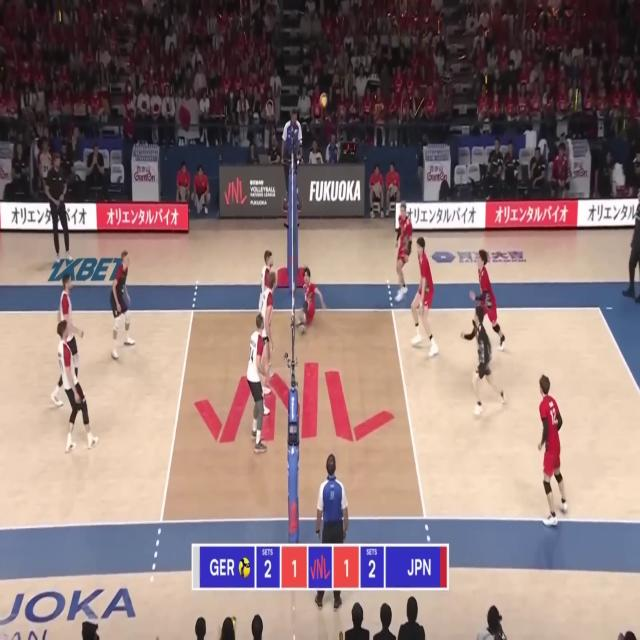referee: (315, 454, 349, 610)
team_one: (56, 323, 99, 452), (49, 270, 83, 406), (247, 314, 267, 450), (110, 249, 134, 362), (259, 274, 276, 400), (258, 249, 274, 358)
team_two: (460, 305, 506, 420), (537, 371, 570, 528), (410, 239, 441, 360), (471, 249, 508, 347), (295, 264, 326, 337), (396, 202, 414, 303)
